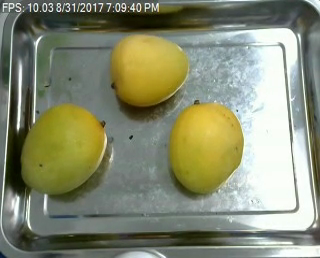Mango: (22, 102, 108, 194), (168, 103, 244, 192), (111, 35, 188, 107)
